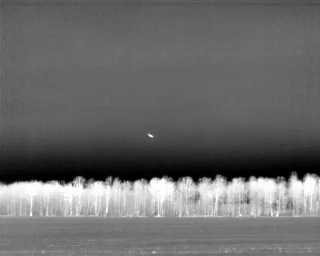DRONE: (144, 129, 157, 142)
